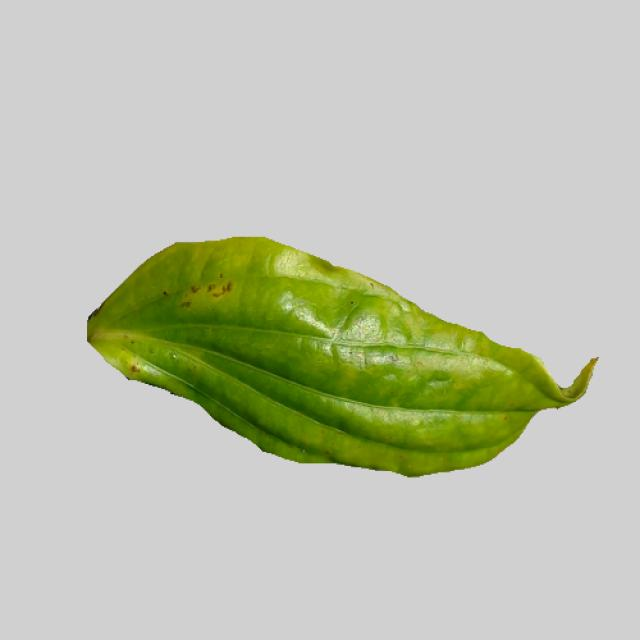yellow-mottle-virus: (88, 238, 593, 470)
